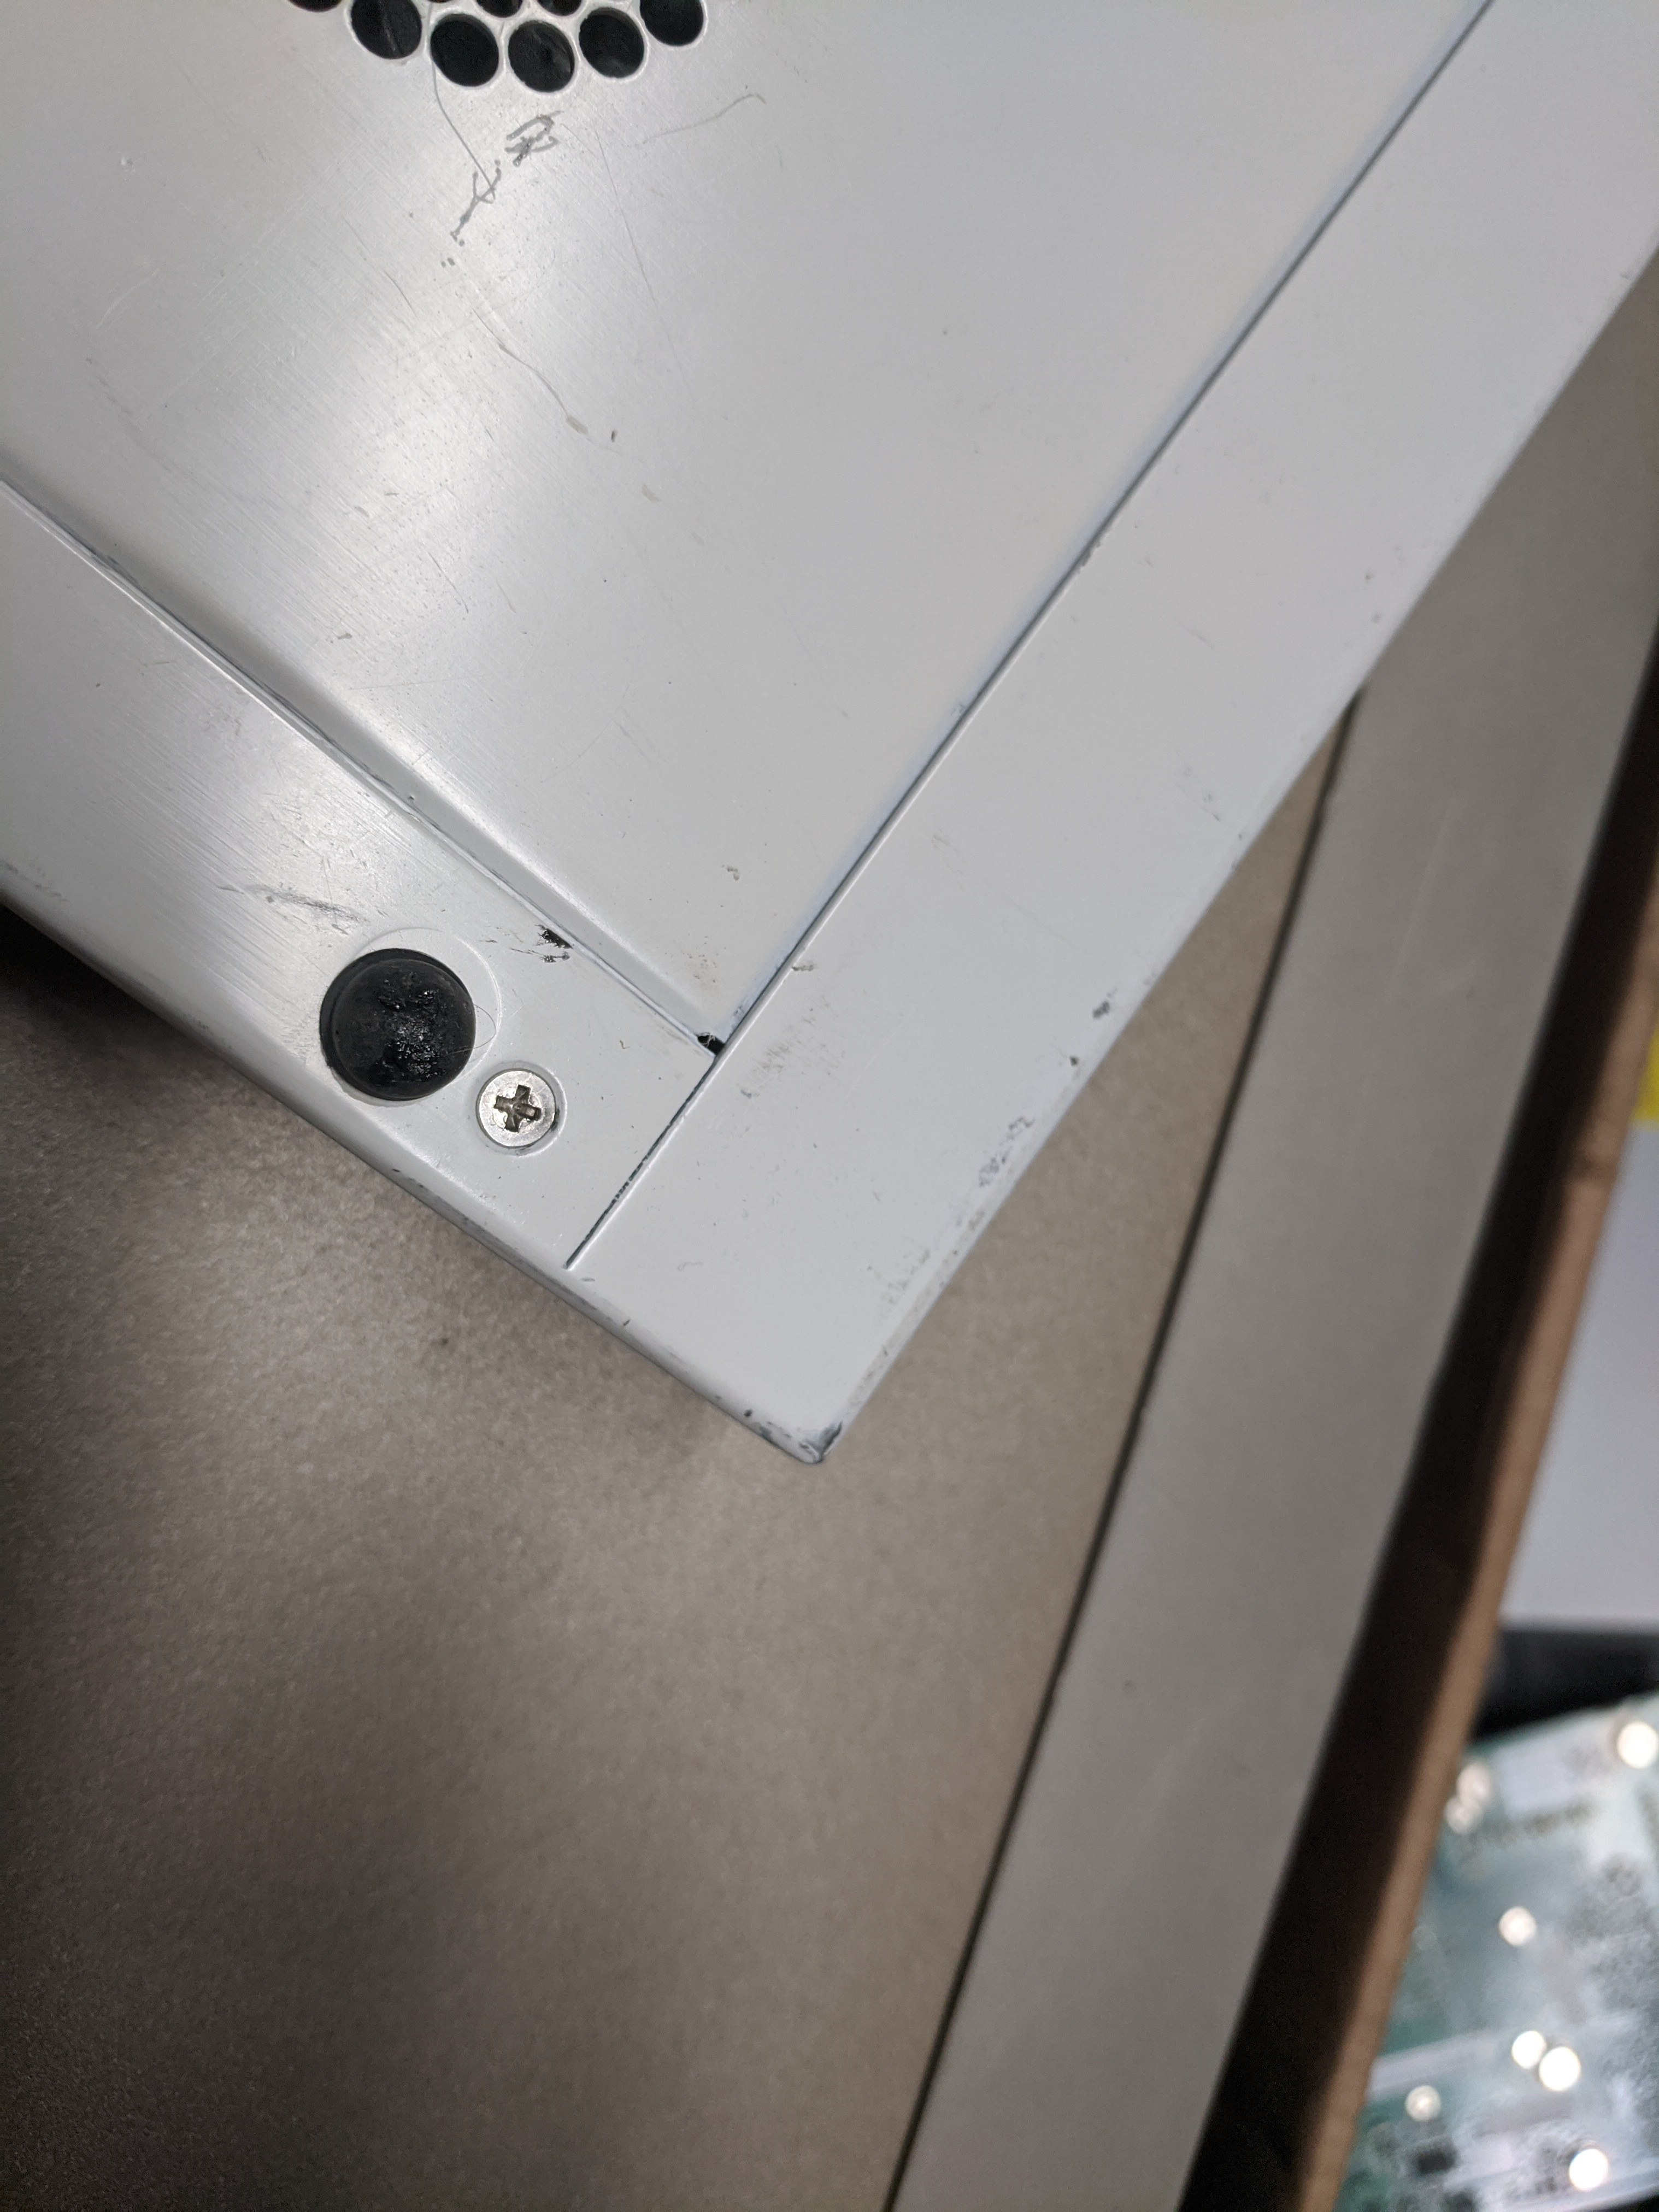cross_recessed_screw: (460, 1045, 570, 1165)
